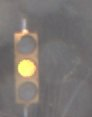Yellow: (5, 24, 43, 112)
